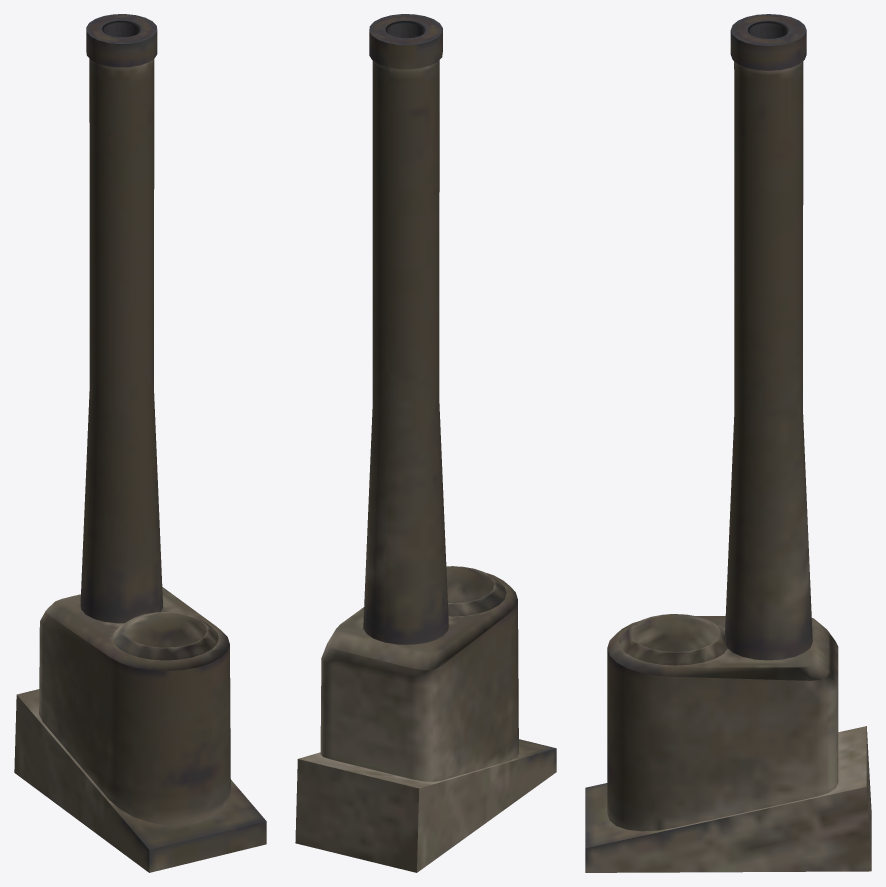
Rendered from Gun_04.glb.
3 renders of one model, left to right at view 1: azimuth 30°, elevation 25°; view 2: azimuth 150°, elevation 25°; view 3: azimuth 270°, elevation 25°, orthographic. The views are drawn at different scales.
Visible parts, largest first — view 1: set_0_group_0; view 2: set_0_group_0; view 3: set_0_group_0.
Part boxes in pixels (bbox=[...]): set_0_group_0: bbox=[14, 14, 266, 872]; set_0_group_0: bbox=[295, 14, 556, 872]; set_0_group_0: bbox=[585, 14, 871, 872].
Bounding box in the file's own units: 0.1766 × 1.1 × 0.3518.
1 material, 1 textured.
